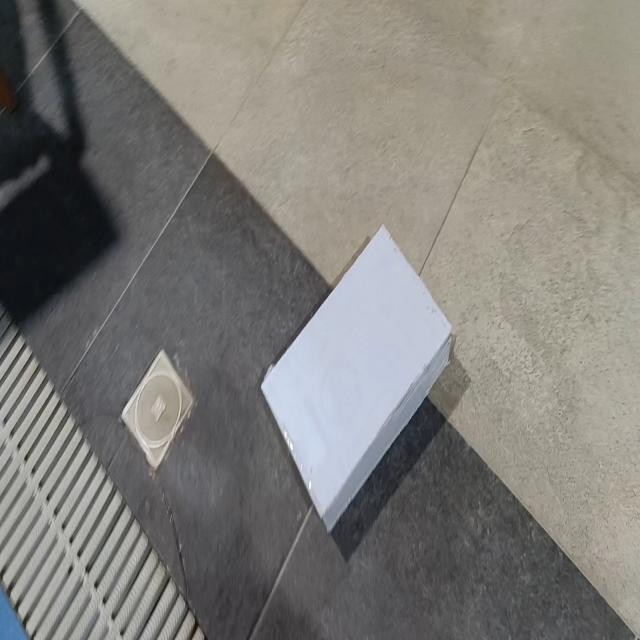Cuboid: (260, 221, 452, 534)
